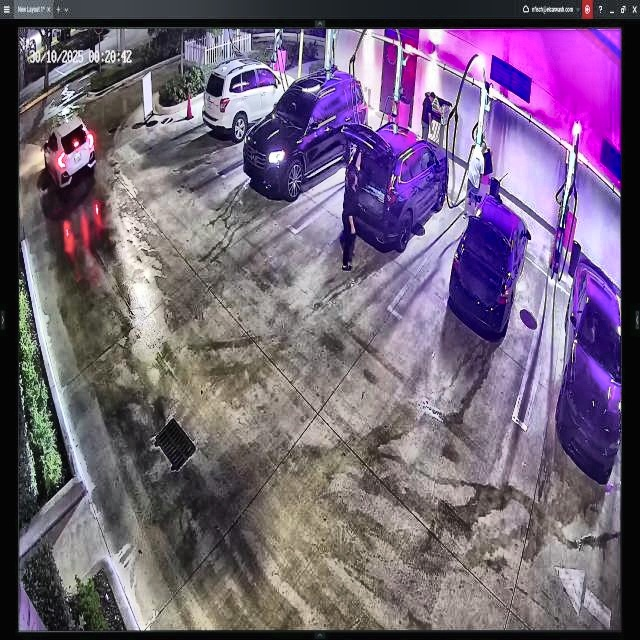Car: (248, 71, 367, 199), (345, 122, 450, 248), (450, 186, 528, 335)
